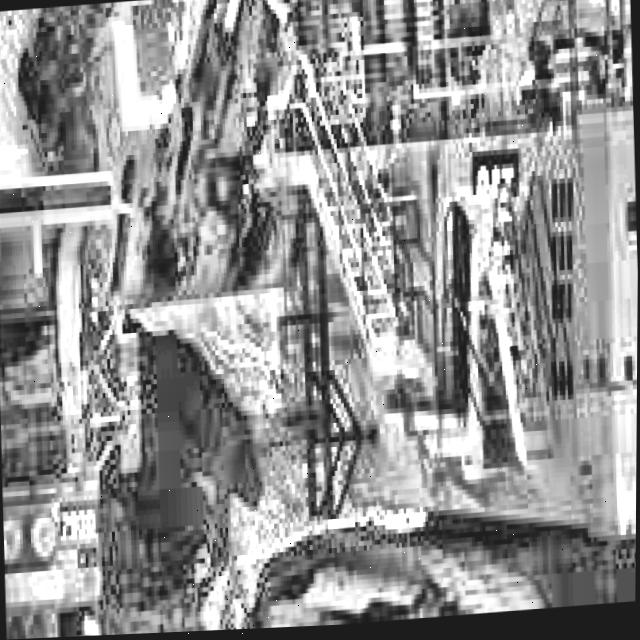excavator: (47, 0, 640, 638)
